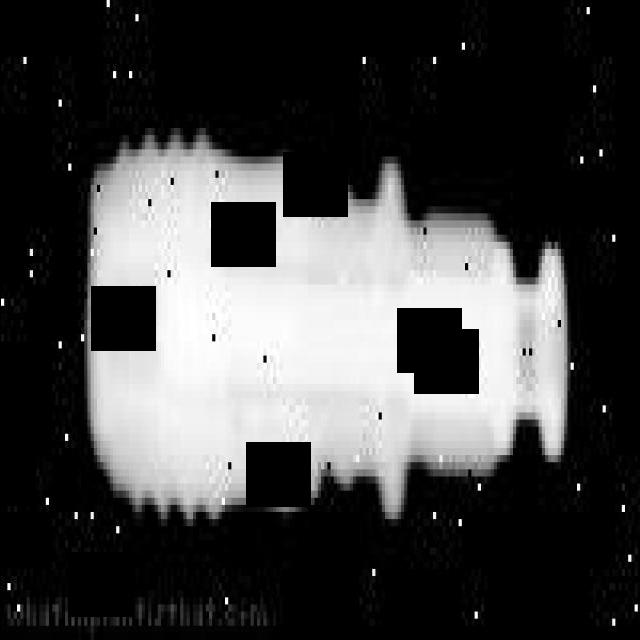Titan Implant Implant: (75, 126, 576, 524)
